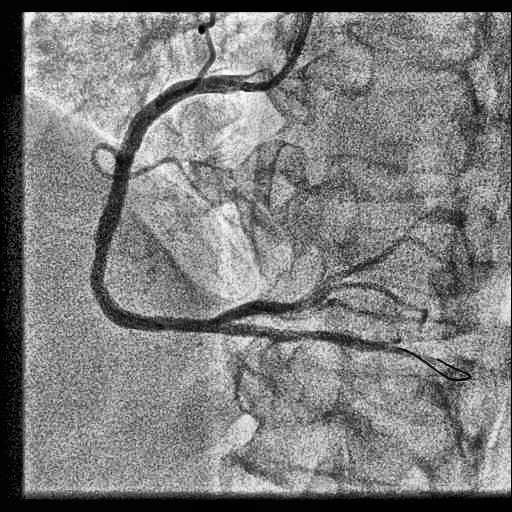pborca: (214, 236, 408, 325)
pda: (215, 323, 385, 352)
rca: (90, 75, 229, 333)
